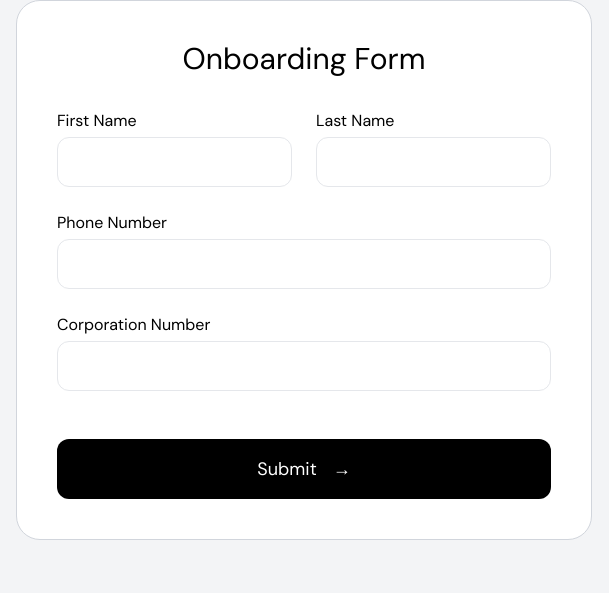
Test: OnboardForm › shows error message on failed submit
The width and height of the screenshot is (609, 593).
Type "John" into the field labelled "First Name".
click(174, 162); type("John")  # box [57,137,292,187]
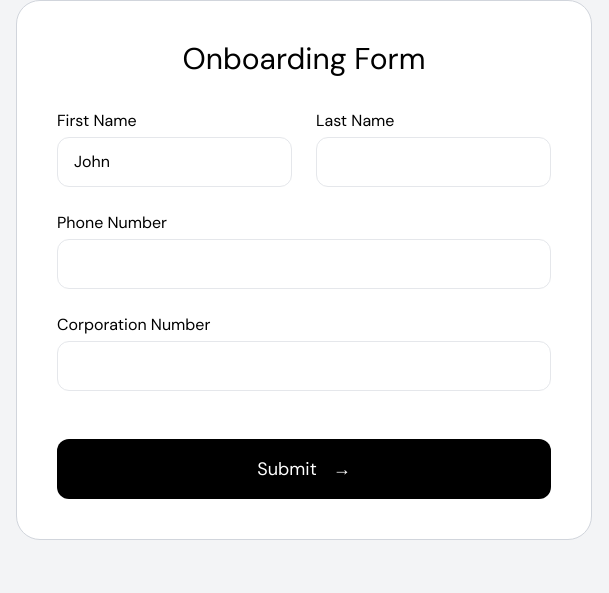
Type "Doe" into the field labelled "Last Name".
click(434, 162); type("Doe")  # box [316,137,551,187]
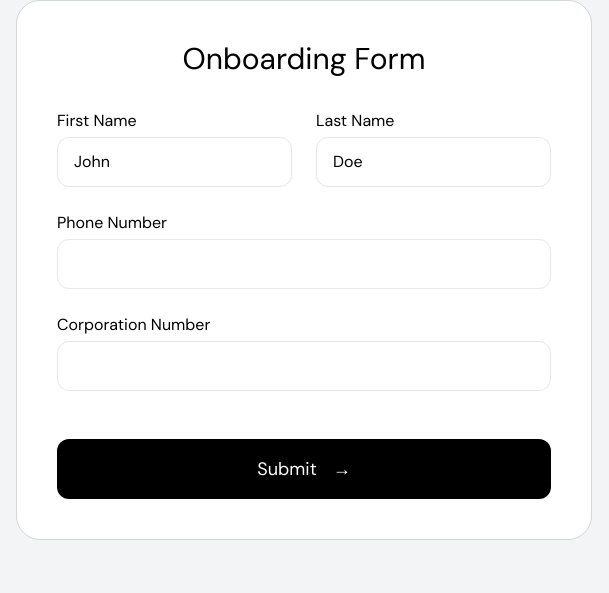
Type "+11234567890" into the field labelled "Phone Number".
click(304, 264); type("+11234567890")  # box [57,239,551,289]
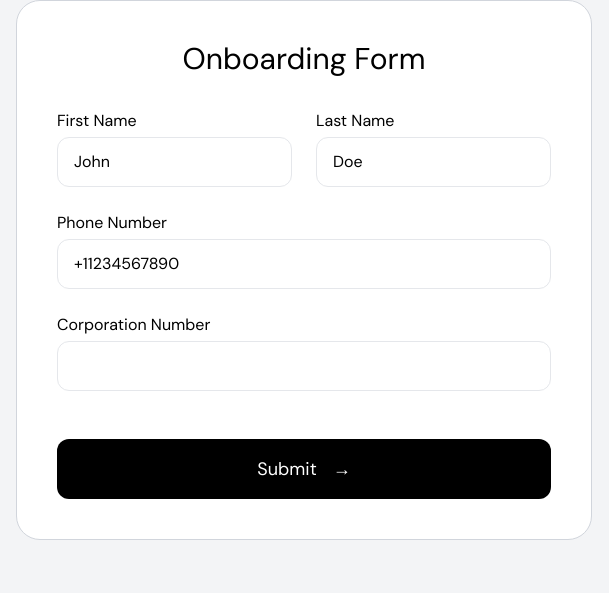
Type "123456789" into the field labelled "Corporation Number".
click(304, 366); type("123456789")  # box [57,341,551,391]
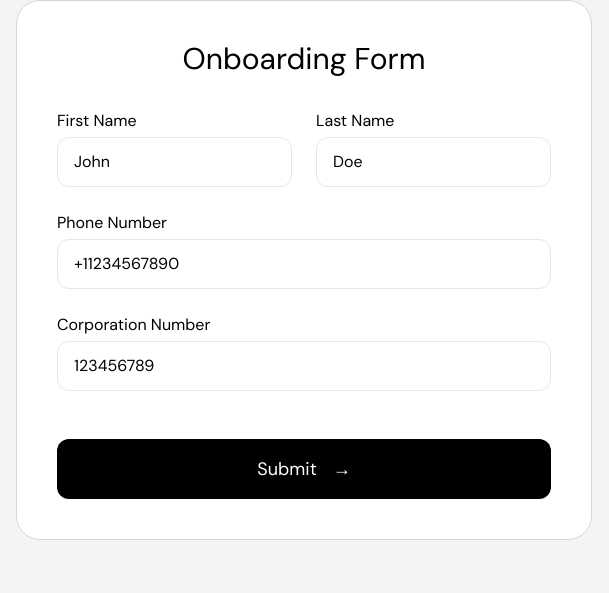
Click the button "Submit →".
click(304, 469)  # box [57,439,551,499]
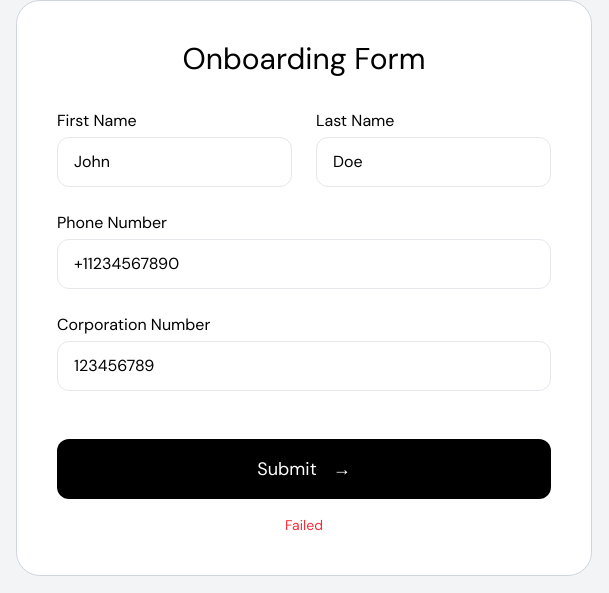
Now the text "Failed" is shown, box [285,516,323,534]
